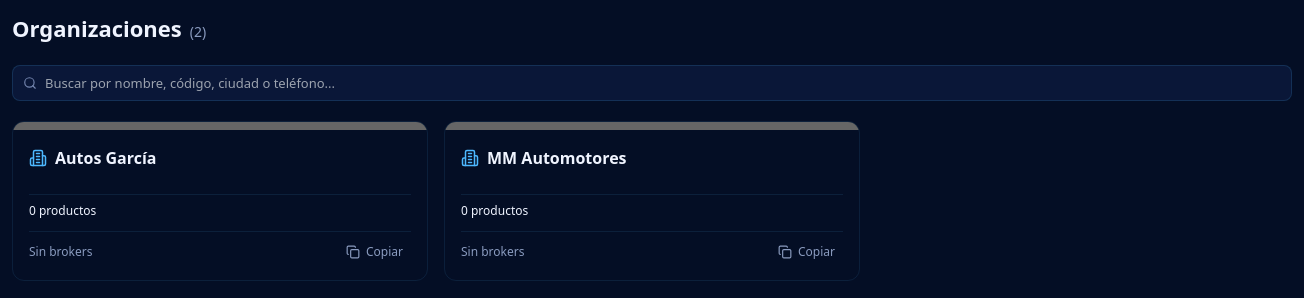
Test case: AdminDealersPage › filters organizations from the visible search field
Type "García" into the search field named "buscar organizaciones" at (652, 83), box [12,65,1292,101]
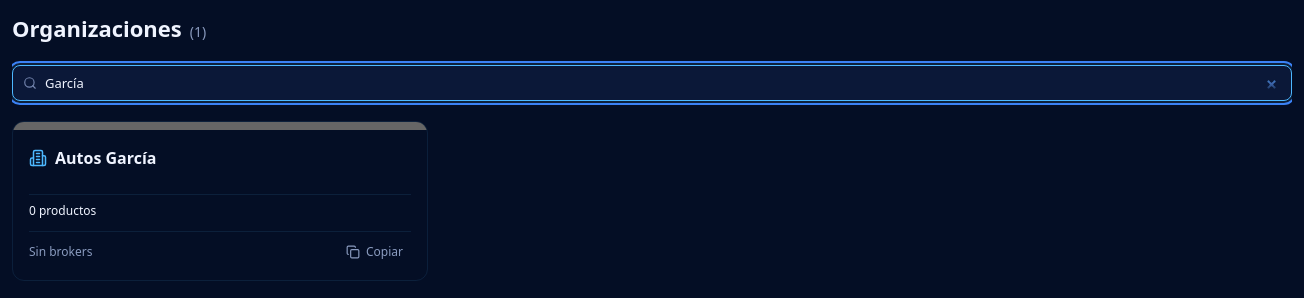
Expected: the text "Autos García" is shown, [55,146,156,170]
Expected: the link "MM Automotores" is gone
